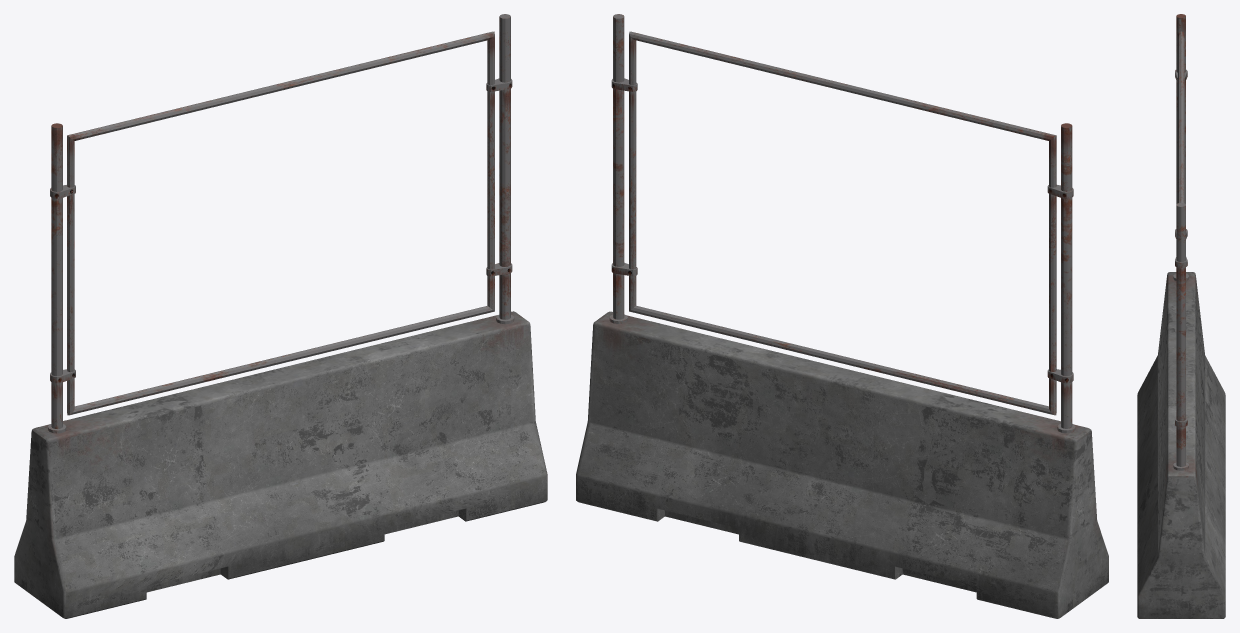
Rendered from ParedConReja.glb.
The picture shows the model from 3 angles, left to right: view 1: azimuth 30°, elevation 25°; view 2: azimuth 150°, elevation 25°; view 3: azimuth 270°, elevation 25°; orthographic projection. The views are drawn at different scales.
Parts seen in each view (by area): view 1: Object_9; view 2: Object_9; view 3: Object_9.
Part boxes in pixels (<box>): Object_9: <box>14,14,547,618</box>; Object_9: <box>576,14,1108,618</box>; Object_9: <box>1137,14,1225,618</box>.
Bounding box in the file's own units: 2.64 × 2.45 × 0.4807.
Materials: 1 (1 with a texture image).
